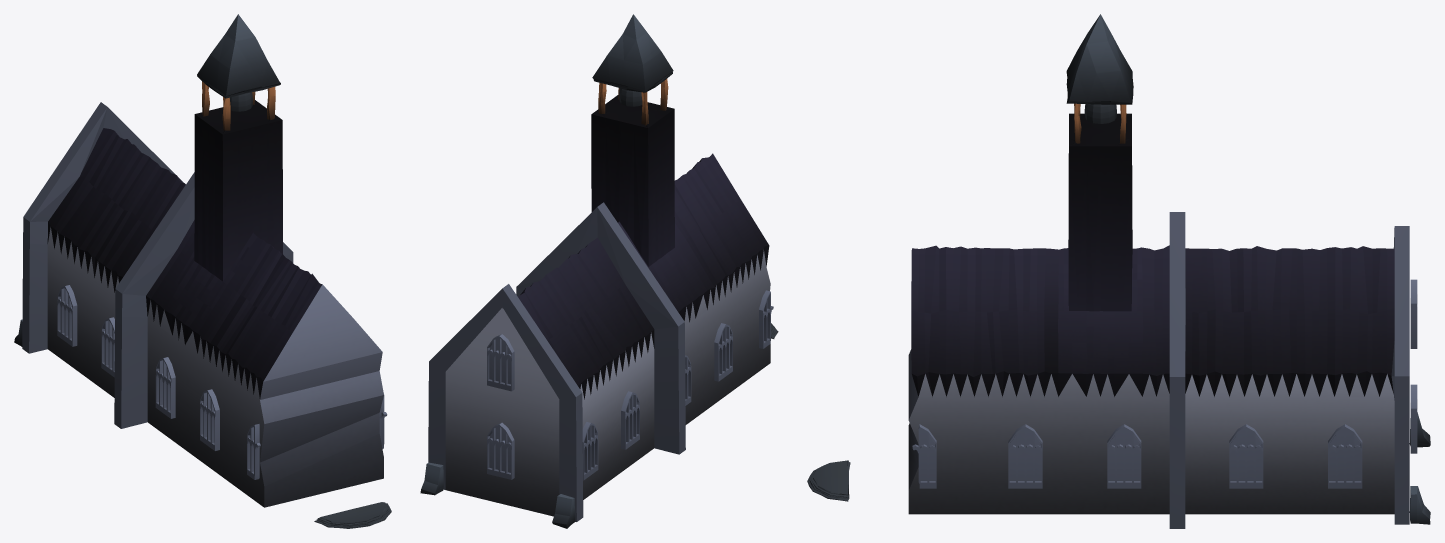
File: church.fbx
3 views of the same model, side by side, from view 1: azimuth 30°, elevation 25°; view 2: azimuth 150°, elevation 25°; view 3: azimuth 270°, elevation 25° (orthographic). The views are drawn at different scales.
Parts seen in each view (by area): view 1: Cube.018, Cube.019, Cylinder.006, Cube.029, Cube.027, Cube.026, Cube.028, Cube.025; view 2: Cube.018, Cube.019, Cube.033, Cube.032, Cube.026, Cube.028, Cube.029, Cube.025, Cube.036, Cube.037; view 3: Cube.018, Cube.019, Cube.022, Cube.021, Cube.024, Cube.023, Cylinder.006, Cube.020.
Part boxes in pixels (x1=…): Cube.018: x1=22, y1=81, x2=383, y2=507; Cube.019: x1=197, y1=14, x2=280, y2=98; Cylinder.006: x1=314, y1=502, x2=391, y2=528; Cube.029: x1=57, y1=285, x2=77, y2=346; Cube.027: x1=155, y1=357, x2=175, y2=418; Cube.026: x1=200, y1=389, x2=219, y2=450; Cube.028: x1=101, y1=317, x2=114, y2=377; Cube.025: x1=247, y1=424, x2=260, y2=479; Cube.018: x1=428, y1=78, x2=770, y2=521; Cube.019: x1=592, y1=14, x2=673, y2=92; Cube.033: x1=487, y1=422, x2=514, y2=479; Cube.032: x1=487, y1=334, x2=514, y2=391; Cube.026: x1=714, y1=323, x2=732, y2=381; Cube.028: x1=621, y1=391, x2=639, y2=449; Cube.029: x1=582, y1=422, x2=598, y2=480; Cube.025: x1=759, y1=290, x2=773, y2=348; Cube.036: x1=552, y1=494, x2=575, y2=528; Cube.037: x1=420, y1=462, x2=443, y2=495; Cube.018: x1=908, y1=103, x2=1409, y2=528; Cube.019: x1=1066, y1=14, x2=1133, y2=104; Cube.022: x1=1107, y1=424, x2=1141, y2=488; Cube.021: x1=1008, y1=424, x2=1042, y2=488; Cube.024: x1=1328, y1=424, x2=1362, y2=488; Cube.023: x1=1229, y1=424, x2=1263, y2=488; Cylinder.006: x1=807, y1=460, x2=850, y2=501; Cube.020: x1=912, y1=424, x2=936, y2=488.
Bounding box in the file's own units: 1341 × 3086 × 3725.
Materials: 2 (2 with a texture image).
